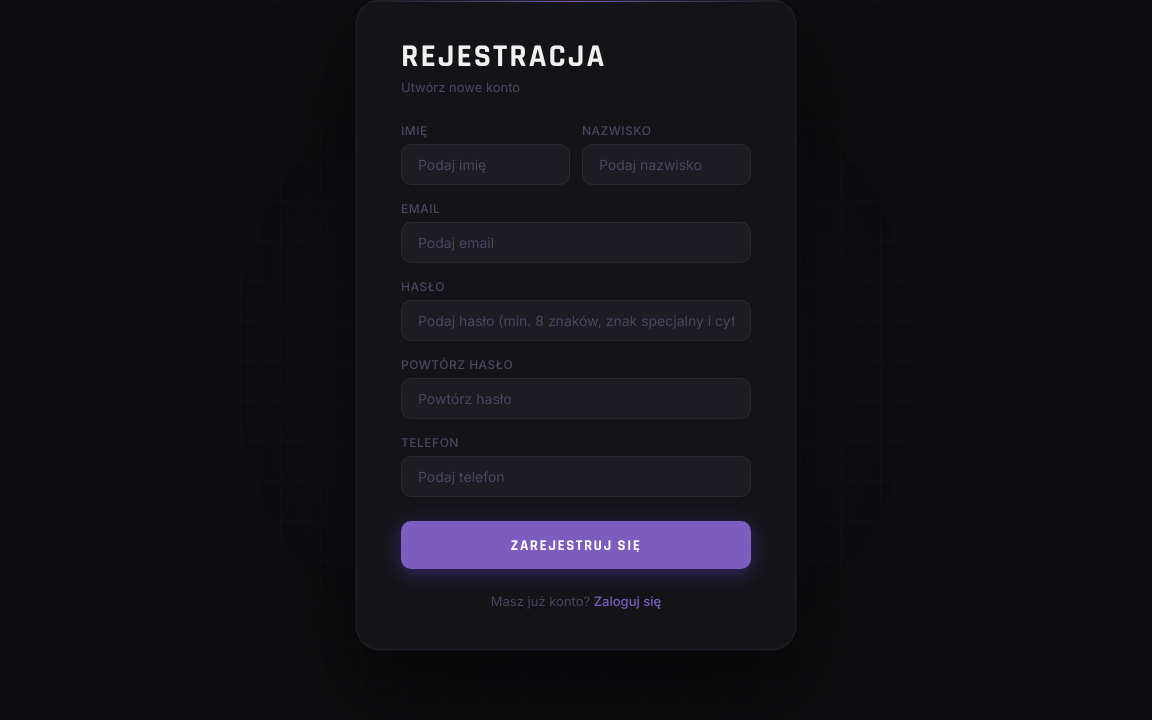
Test case: RegisterForm › pokazuje blad gdy hasla sa rozne
Type "Jan" into the field with placeholder "Podaj imię" at (486, 164), box x1=401 y1=144 x2=570 y2=185
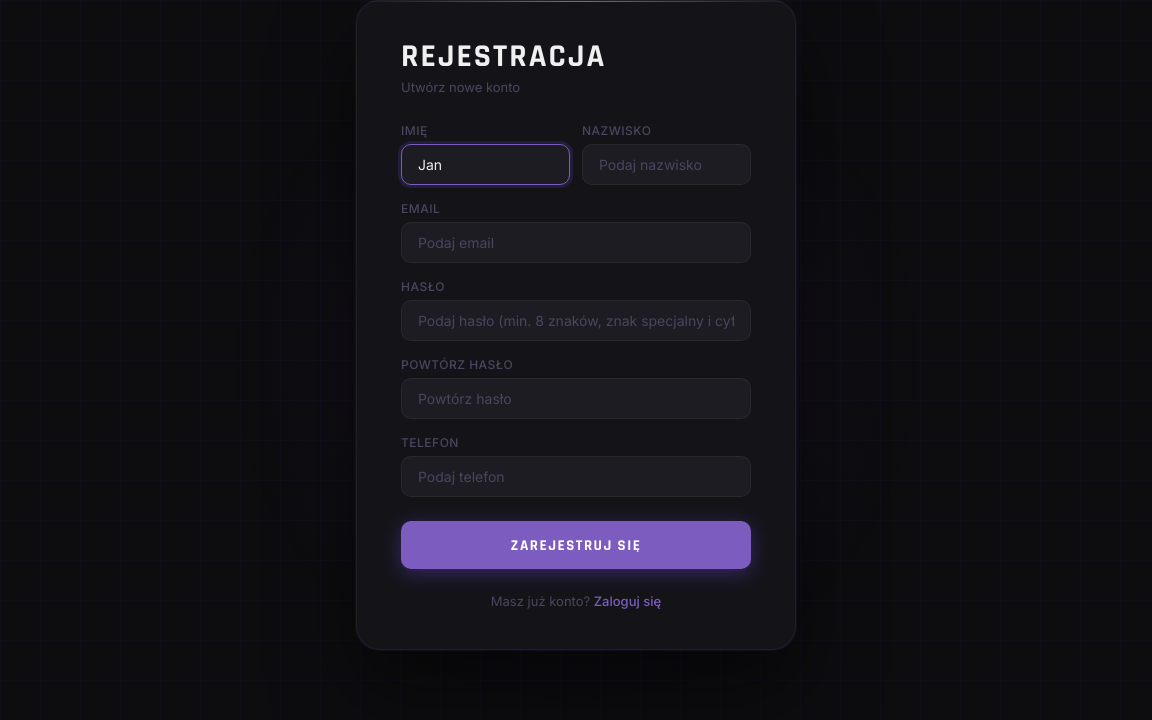
Type "Kowalski" into the field with placeholder "Podaj nazwisko" at (666, 164), box x1=582 y1=144 x2=751 y2=185
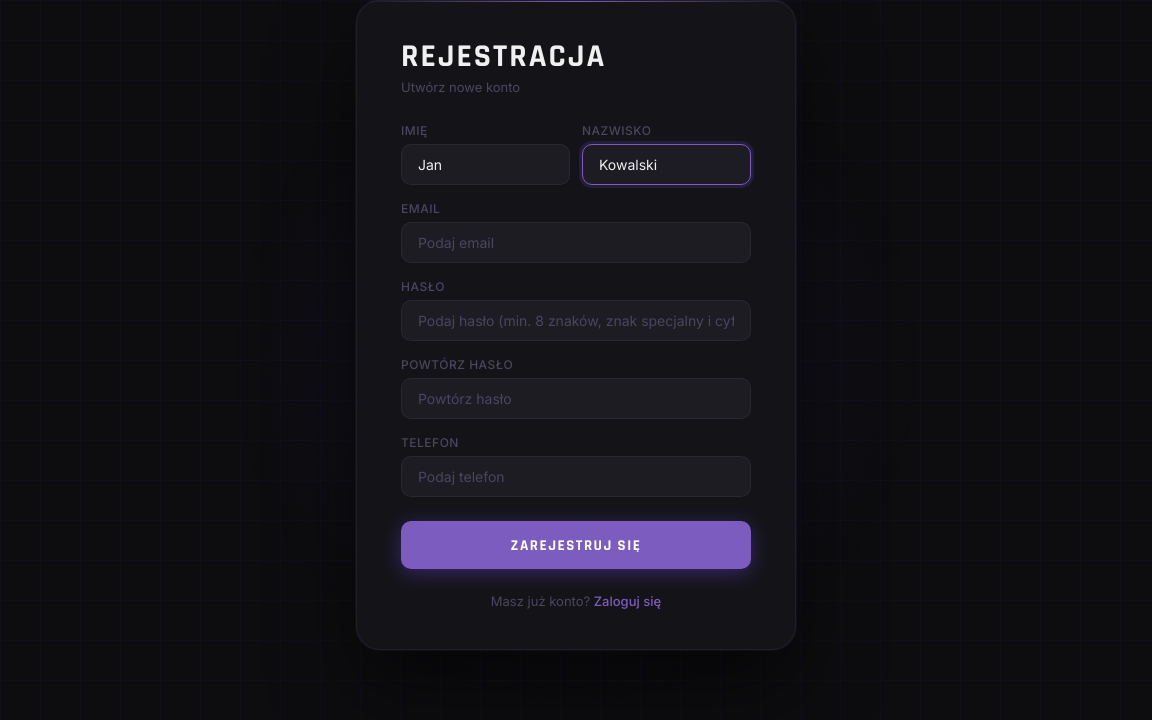
Type "jan@example.com" into the field with placeholder "Podaj email" at (576, 242), box x1=401 y1=222 x2=751 y2=263
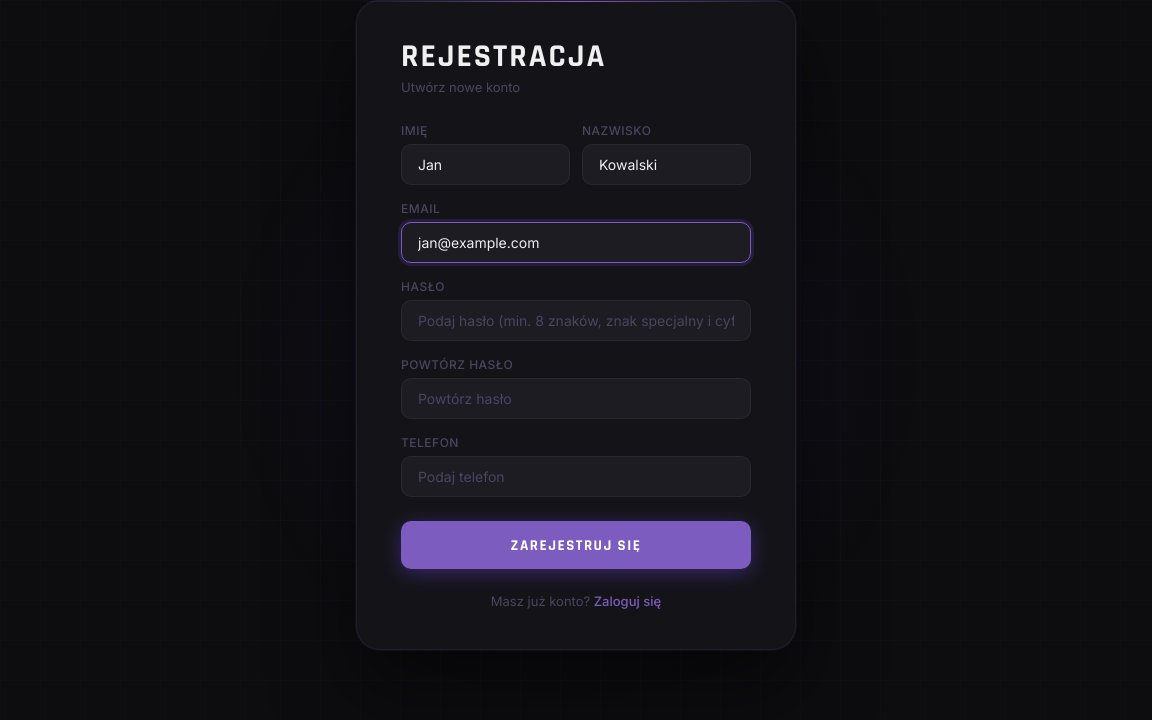
Type "Testowe123!" into the password field with placeholder "Podaj hasło (min. 8 znaków, znak specjalny i cyfra" at (576, 320), box x1=401 y1=300 x2=751 y2=341
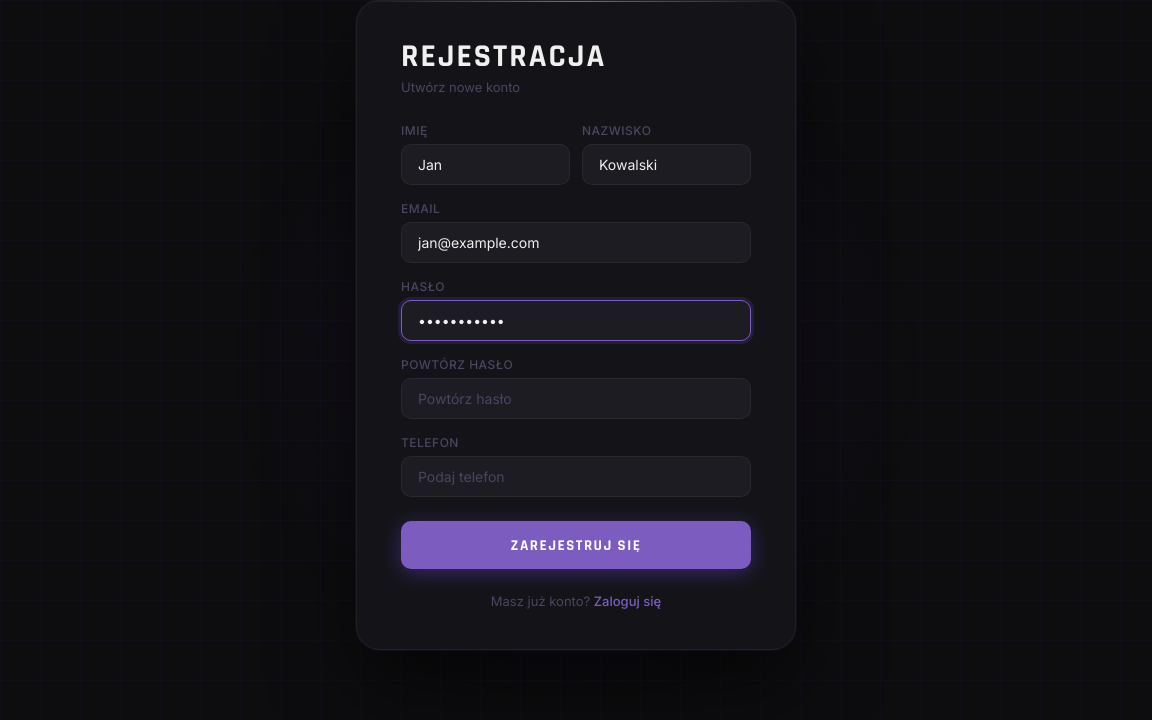
Type "Inne123!" into the password field with placeholder "Powtórz hasło" at (576, 398), box x1=401 y1=378 x2=751 y2=419
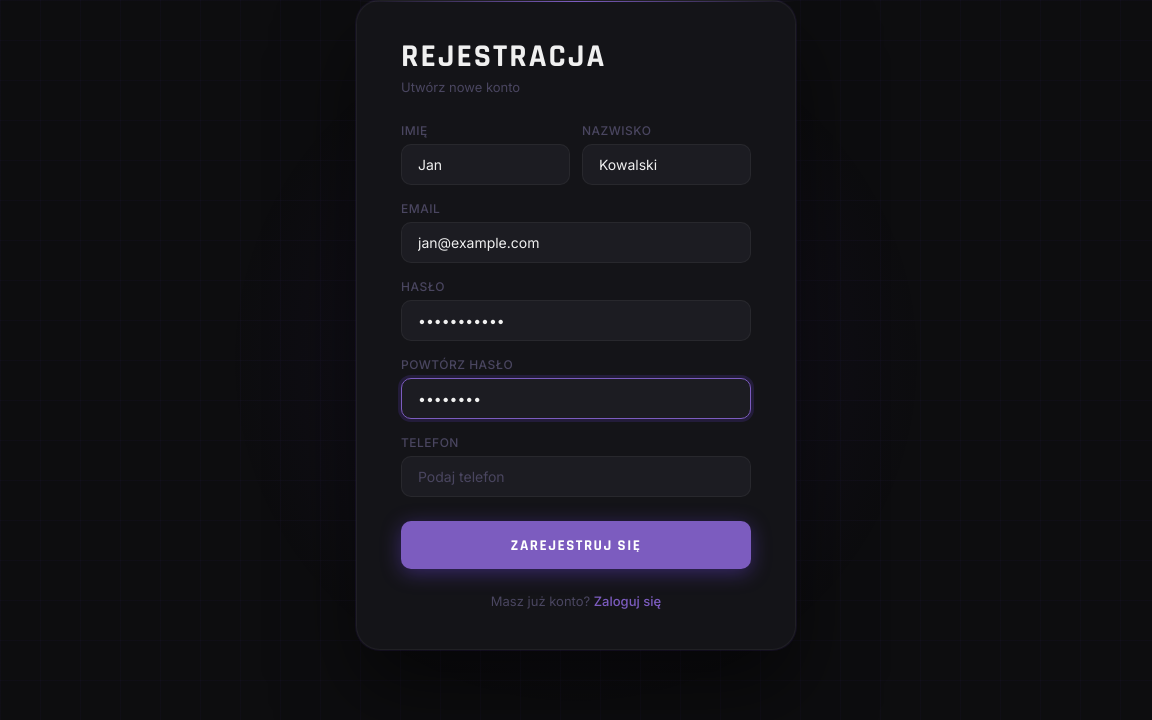
Click the button "Zarejestruj się" at (576, 545), box x1=401 y1=521 x2=751 y2=569
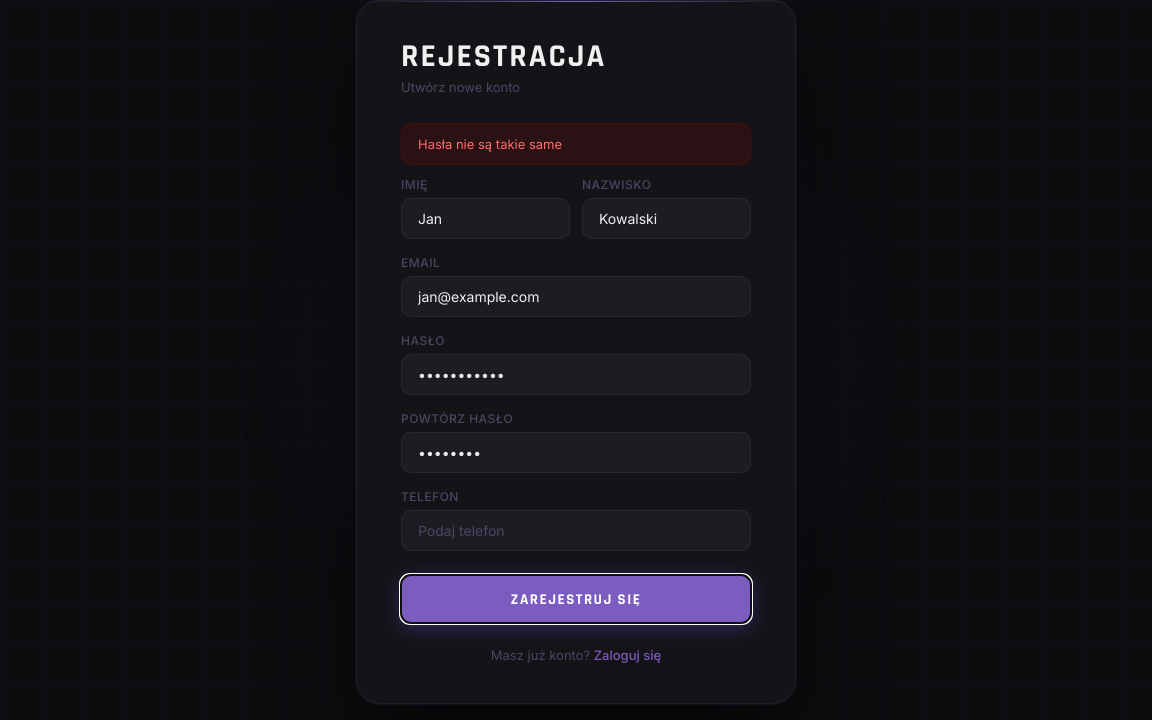
Result: the text "Hasła nie są takie same" is shown at x1=401 y1=123 x2=751 y2=165
